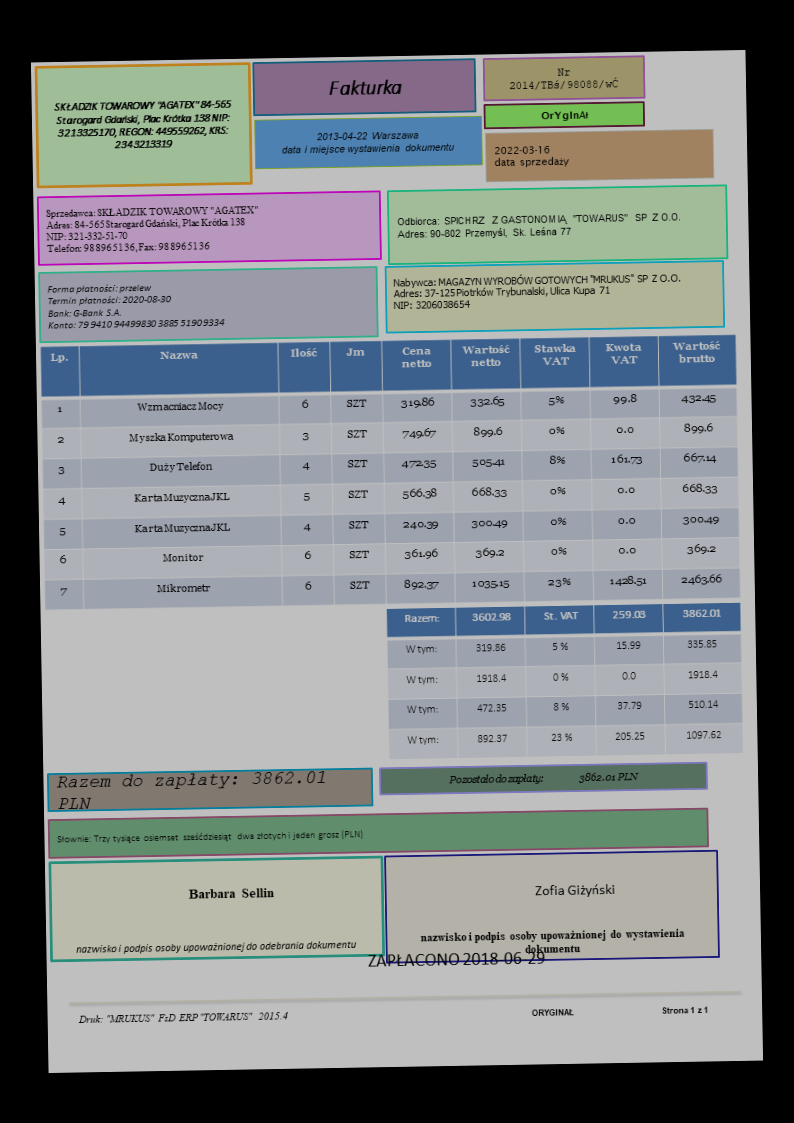Table: (39, 334, 741, 610), (385, 601, 743, 759)
TextBox: (390, 271, 681, 312), (42, 203, 259, 256), (55, 770, 327, 811), (50, 96, 233, 154), (45, 279, 227, 333), (395, 209, 685, 242), (418, 927, 686, 957), (73, 937, 357, 957), (55, 828, 365, 846), (279, 127, 456, 157), (77, 1008, 291, 1026), (365, 950, 546, 970), (446, 769, 642, 787), (506, 64, 621, 92), (530, 1003, 710, 1019), (491, 142, 572, 171), (326, 78, 403, 98), (532, 882, 617, 899), (187, 885, 274, 901), (539, 108, 592, 123)
